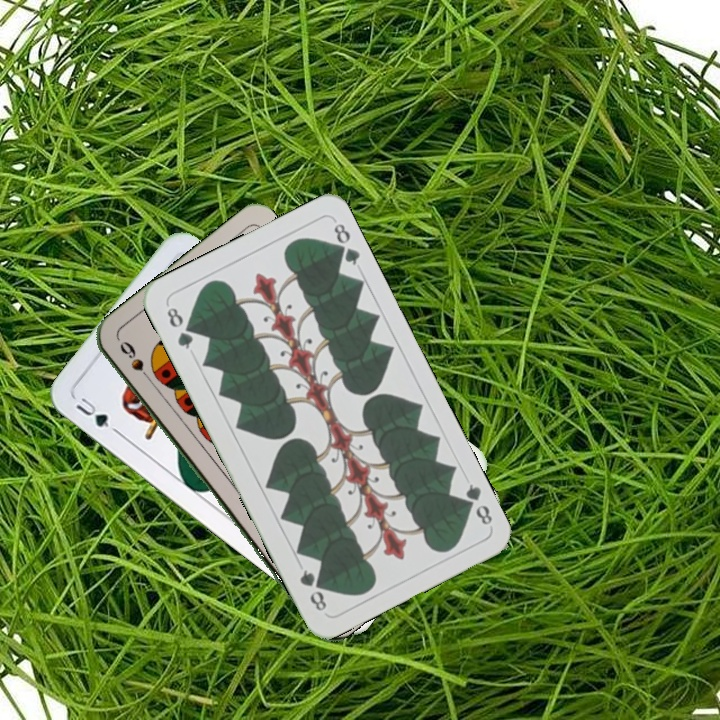G8: (457, 479, 495, 528), (163, 300, 196, 352)
GU: (71, 393, 112, 430)
S9: (115, 336, 157, 387)
